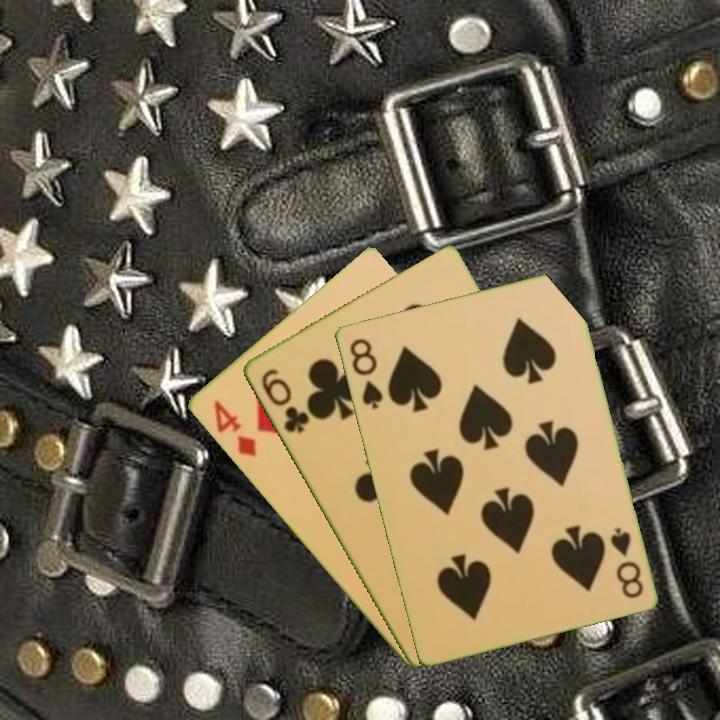4d: (209, 396, 260, 460)
6c: (257, 365, 312, 436)
8s: (606, 523, 646, 601), (346, 334, 385, 412)
